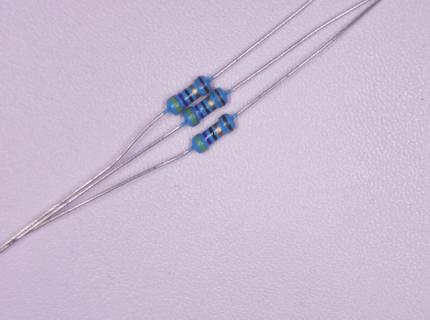Gold band: (213, 122, 225, 137), (205, 96, 217, 111), (189, 84, 201, 99)
Violet band: (177, 93, 189, 107), (202, 131, 213, 146), (194, 105, 205, 119)
Yellow band: (169, 97, 182, 113), (194, 135, 206, 152), (186, 108, 198, 125)
